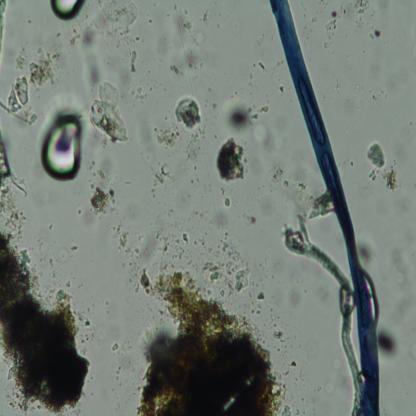Air bubble: (42, 104, 83, 184), (50, 0, 87, 22)
Background material: (124, 247, 285, 414), (0, 134, 92, 412), (0, 44, 65, 124), (87, 0, 142, 76), (82, 77, 128, 148), (78, 155, 121, 224), (379, 245, 416, 324), (154, 98, 208, 147), (170, 12, 200, 76), (264, 162, 312, 200), (226, 93, 268, 136), (215, 133, 247, 189), (143, 212, 193, 246), (366, 138, 396, 190), (200, 208, 233, 245), (104, 217, 133, 252), (255, 124, 283, 155), (326, 6, 344, 49), (376, 329, 398, 362), (151, 164, 171, 198), (356, 228, 375, 262), (220, 194, 244, 218), (0, 2, 13, 46), (353, 0, 372, 27), (248, 53, 267, 80), (366, 26, 384, 38), (249, 211, 262, 226), (110, 338, 120, 356), (70, 33, 80, 50), (279, 83, 285, 96)
Cellulose filter fibre: (282, 215, 362, 402)
Cotton: (270, 1, 380, 415)
